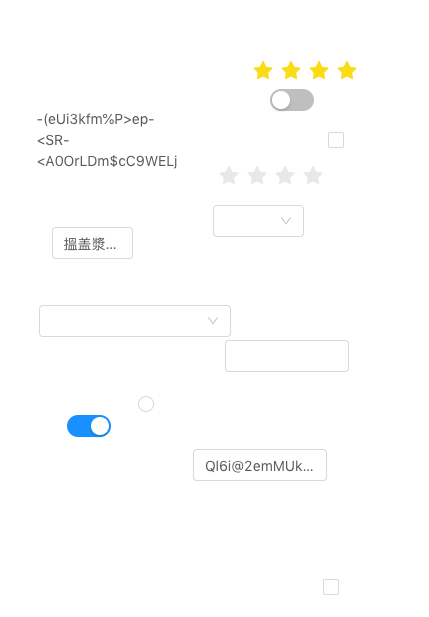Checkbox: (328, 129, 344, 150), (323, 576, 339, 597)
Input: (193, 449, 327, 481), (225, 340, 349, 372), (52, 227, 161, 259)
Radio: (138, 393, 154, 413)
Rate: (219, 159, 339, 191), (253, 54, 373, 86)
Select: (39, 305, 231, 337), (213, 205, 304, 237)
Switch: (67, 414, 111, 438), (270, 88, 314, 112)
Text: (37, 108, 186, 170)
